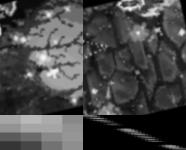eyeC: (0, 0, 83, 115)
sword: (0, 115, 83, 150)
